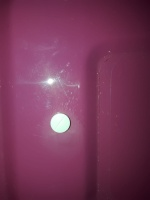Arveles: (49, 111, 72, 136)
